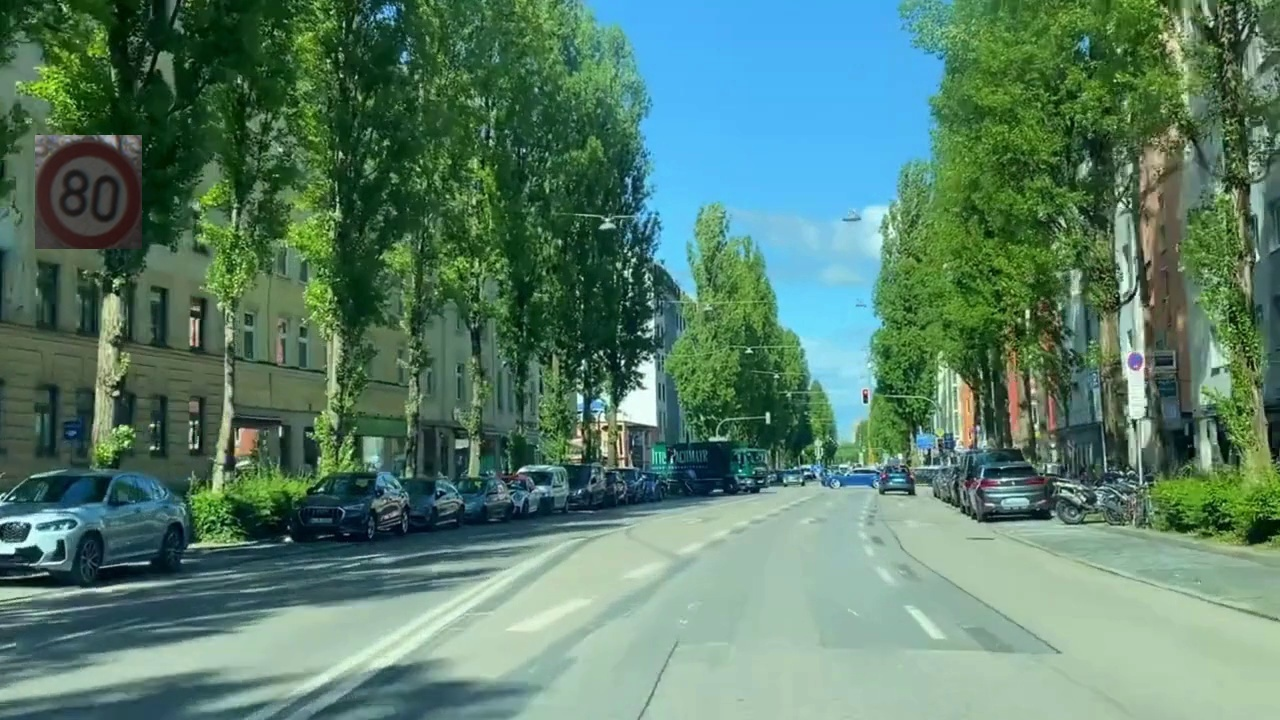Speed 80: (35, 135, 142, 249)
